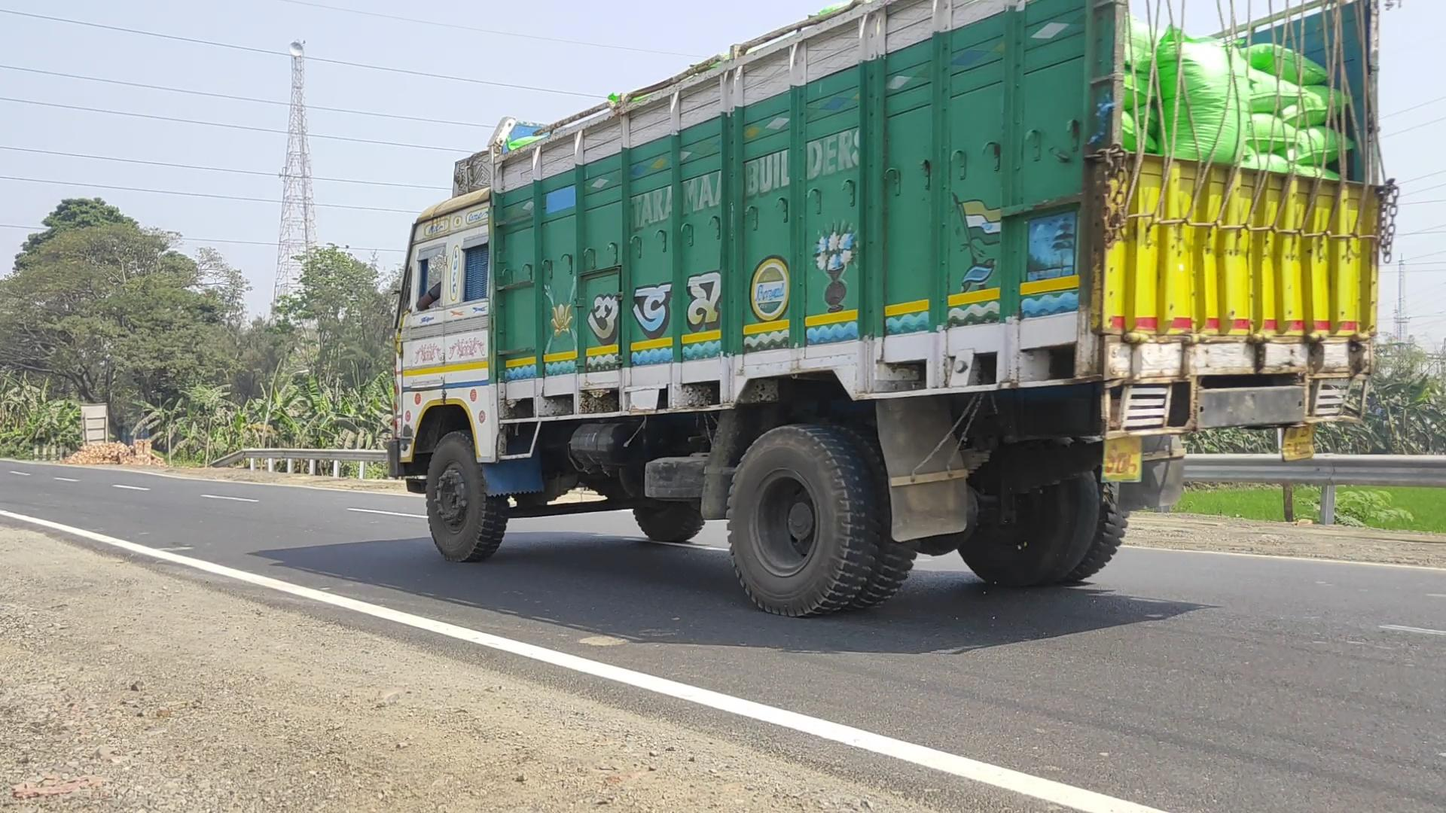truck: (385, 2, 1399, 617)
